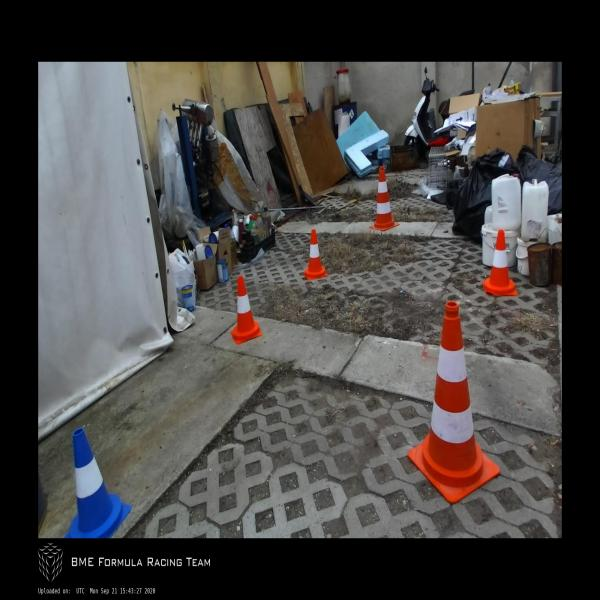blue_cone: (65, 429, 132, 538)
large_orange_cone: (408, 304, 500, 503), (370, 166, 400, 232)
orange_cone: (482, 231, 517, 297), (231, 276, 261, 343), (302, 229, 326, 280)
